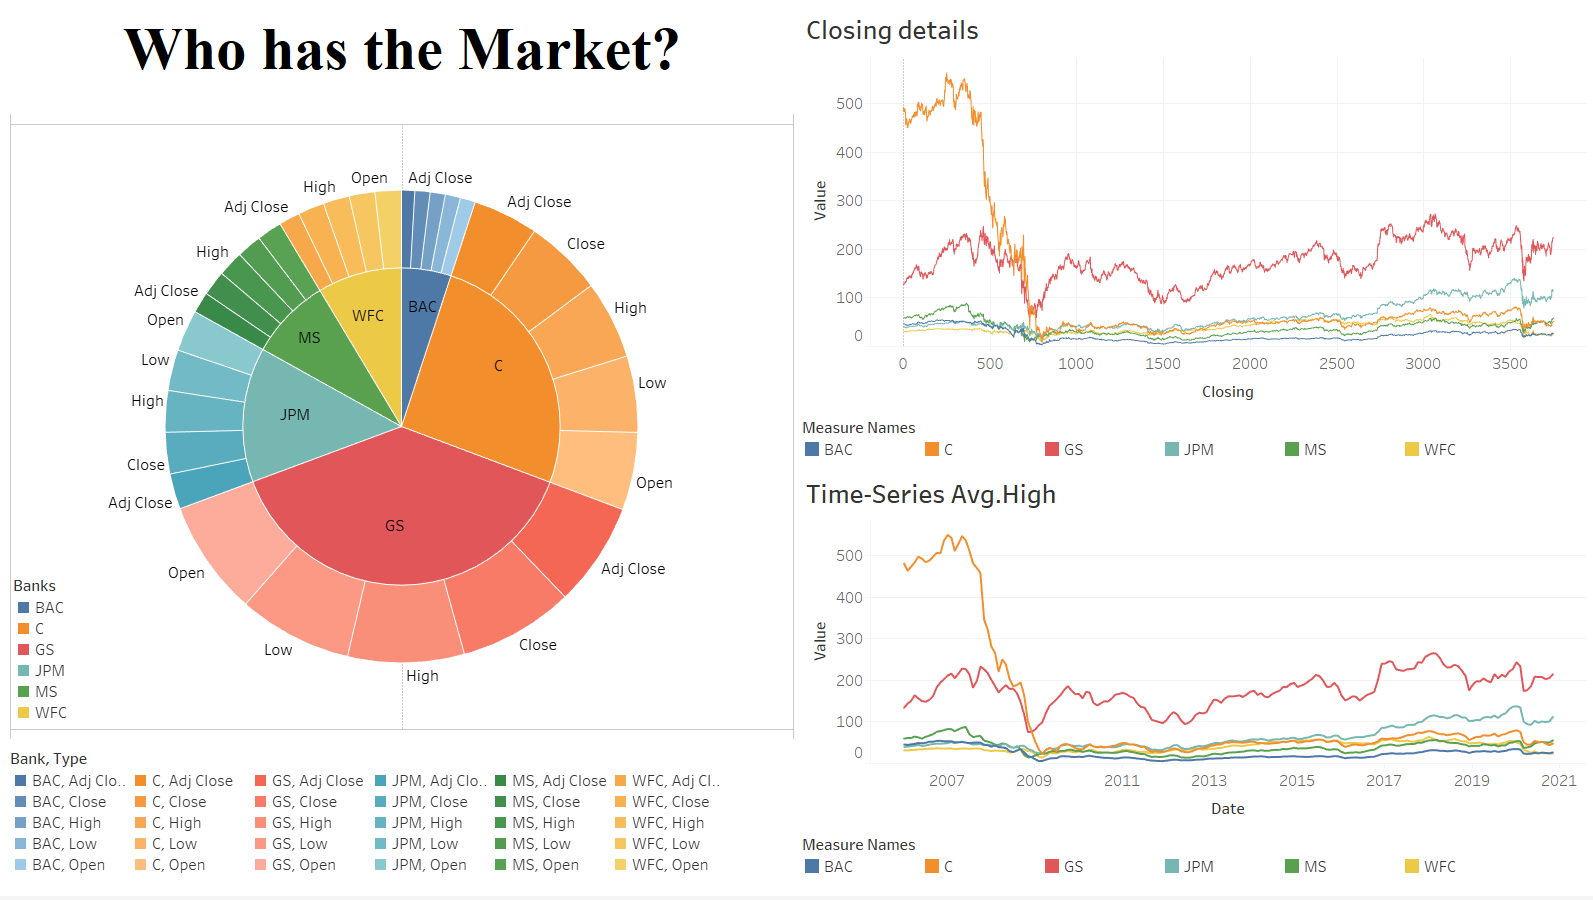

This screenshot's page, from the dashboard's own definition file:
{"tool":"tableau","page":{"name":"Page 2","canvas":[1600,900],"ordinal":1},"visuals":[{"type":"text","box":[8,8,792,90.5]},{"type":"worksheet","title":"Time-Series Avg.High","mark":"Line","cols":["BAC Date"],"box":[800,8,792,826]},{"type":"worksheet","title":"Pie Chart","mark":"Pie","cols":["Calculation_1844224092625211409","Calculation_1844224092625211409"],"box":[8,98.5,792,649.5]},{"type":"legend","title":"Pie Chart","param":"[federated.1t7usxw13bd5qe1a6dhla0ufd1gm].[none:Bank:nk]","box":[15,579,153,180]},{"type":"legend","title":"Pie Chart","param":"[federated.1t7usxw13bd5qe1a6dhla0ufd1gm].[none:Bank:nk]\n[federated.1t7usxw13bd5q","box":[8,748,792,144]},{"type":"legend","title":"Time-Series Avg.High","param":"[federated.04hntlp07xtjrs13csk9e0ayesp1].[:Measure Names]","box":[800,834,792,58]}]}

Visuals, with their boxes in screenshot pixels (x1, y1, x2, y2), scaled from the page's 1600x900 canvas onto the 1593x900 screenshot:
text: 8:8:796:98
"Time-Series Avg.High" worksheet (Line marks): 796:8:1585:834
"Pie Chart" worksheet (Pie marks): 8:98:796:748
"Pie Chart" legend: 15:579:167:759
"Pie Chart" legend: 8:748:796:892
"Time-Series Avg.High" legend: 796:834:1585:892
